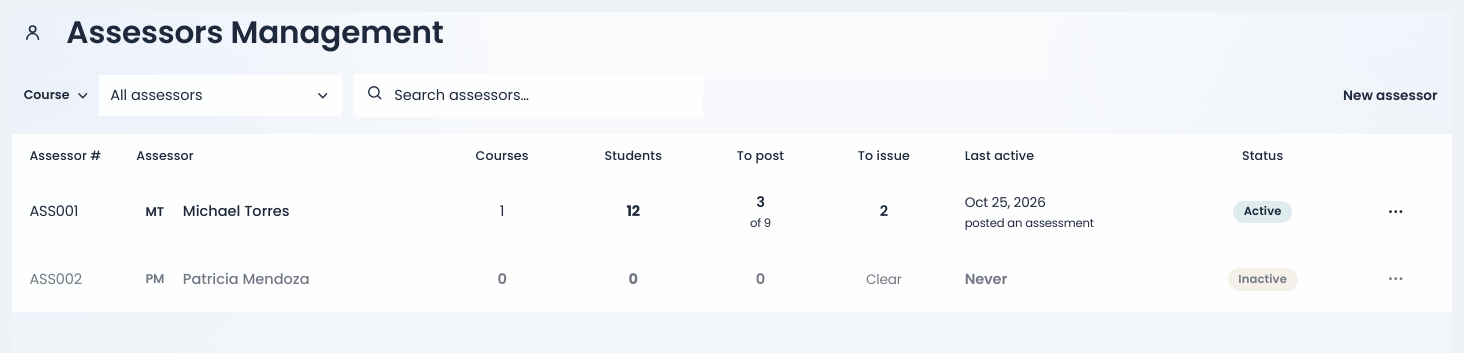
Test: AssessorsManagement — the students-list interface › goes back to everyone when the field changes under a chosen value
Click the dropdown named "Filter assessors by course": (220, 95) x1=98 y1=75 x2=342 y2=116
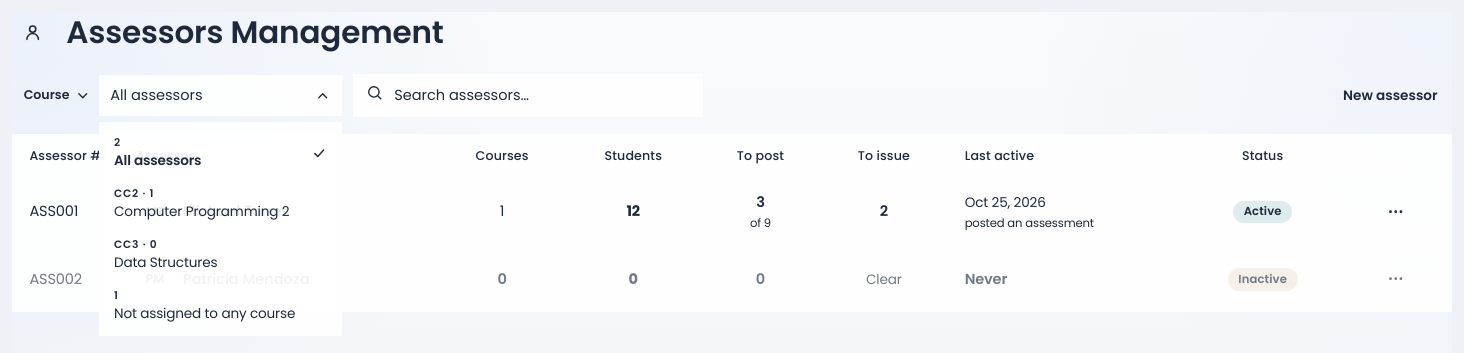
Press the mouse on the text "Not assigned to any course": (220, 314) x1=114 y1=304 x2=326 y2=323
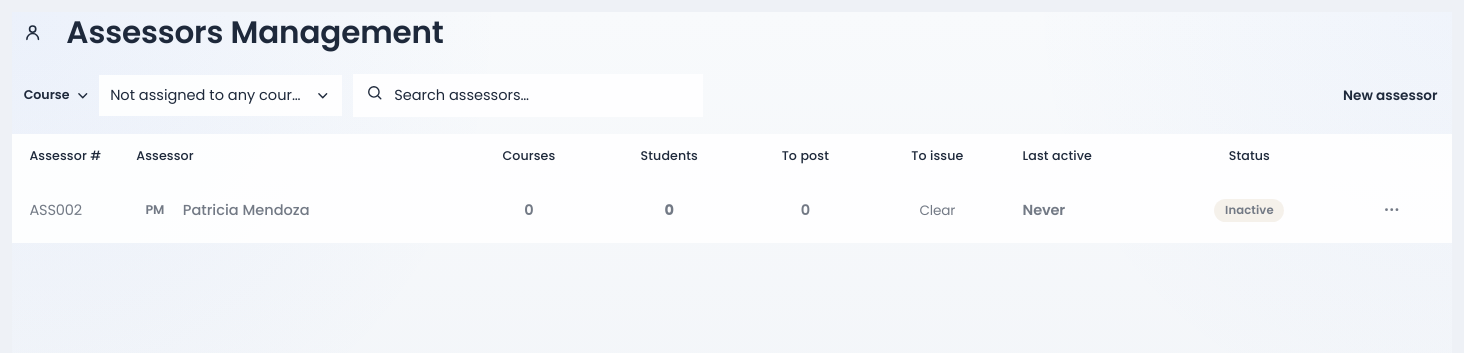
Expected: the button "Michael Torres" is gone
Click the dropdown named "Choose what to filter assessors by": (56, 95) x1=12 y1=75 x2=100 y2=116
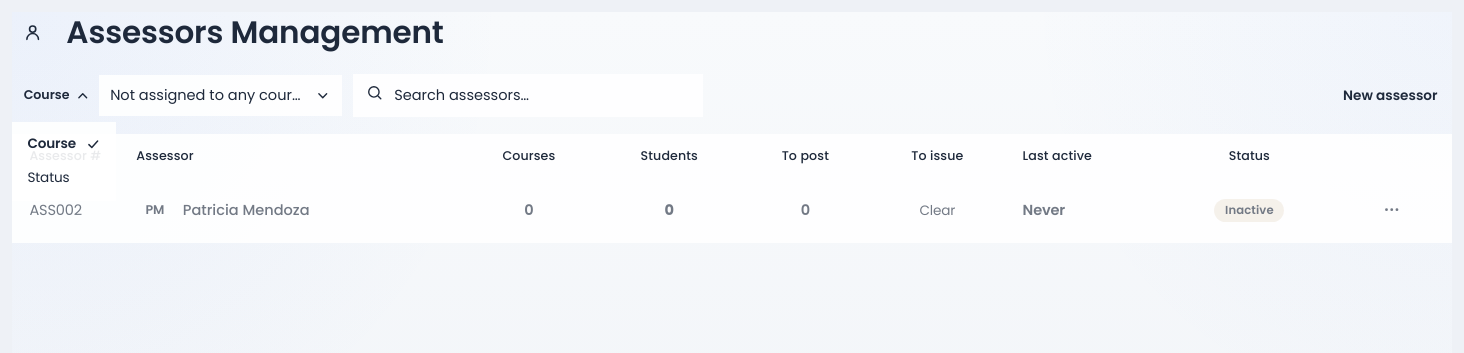
Press the mouse on the option "Status": (48, 178) x1=28 y1=168 x2=69 y2=187
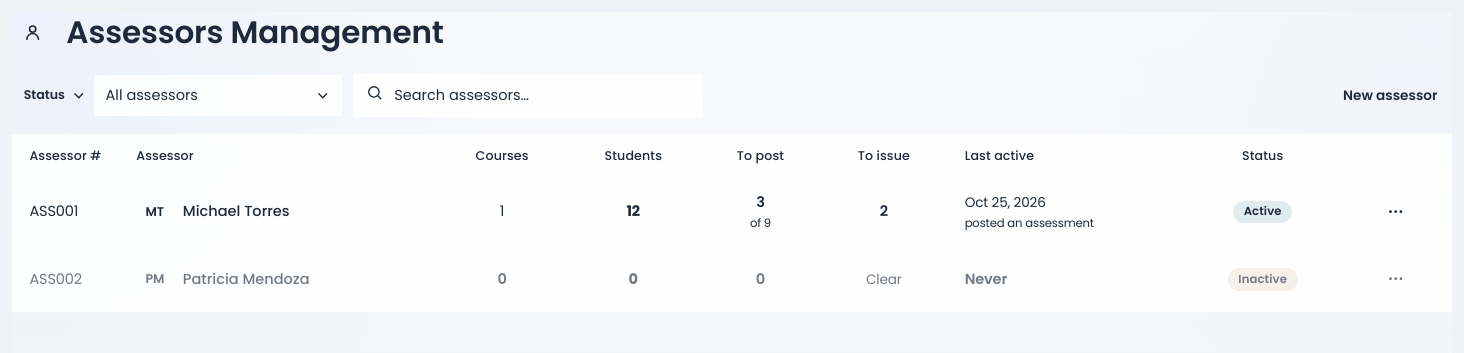
Expected: the button "Patricia Mendoza" is shown, x1=183 y1=269 x2=310 y2=290
Expected: the button "Michael Torres" is shown, x1=183 y1=201 x2=290 y2=222
